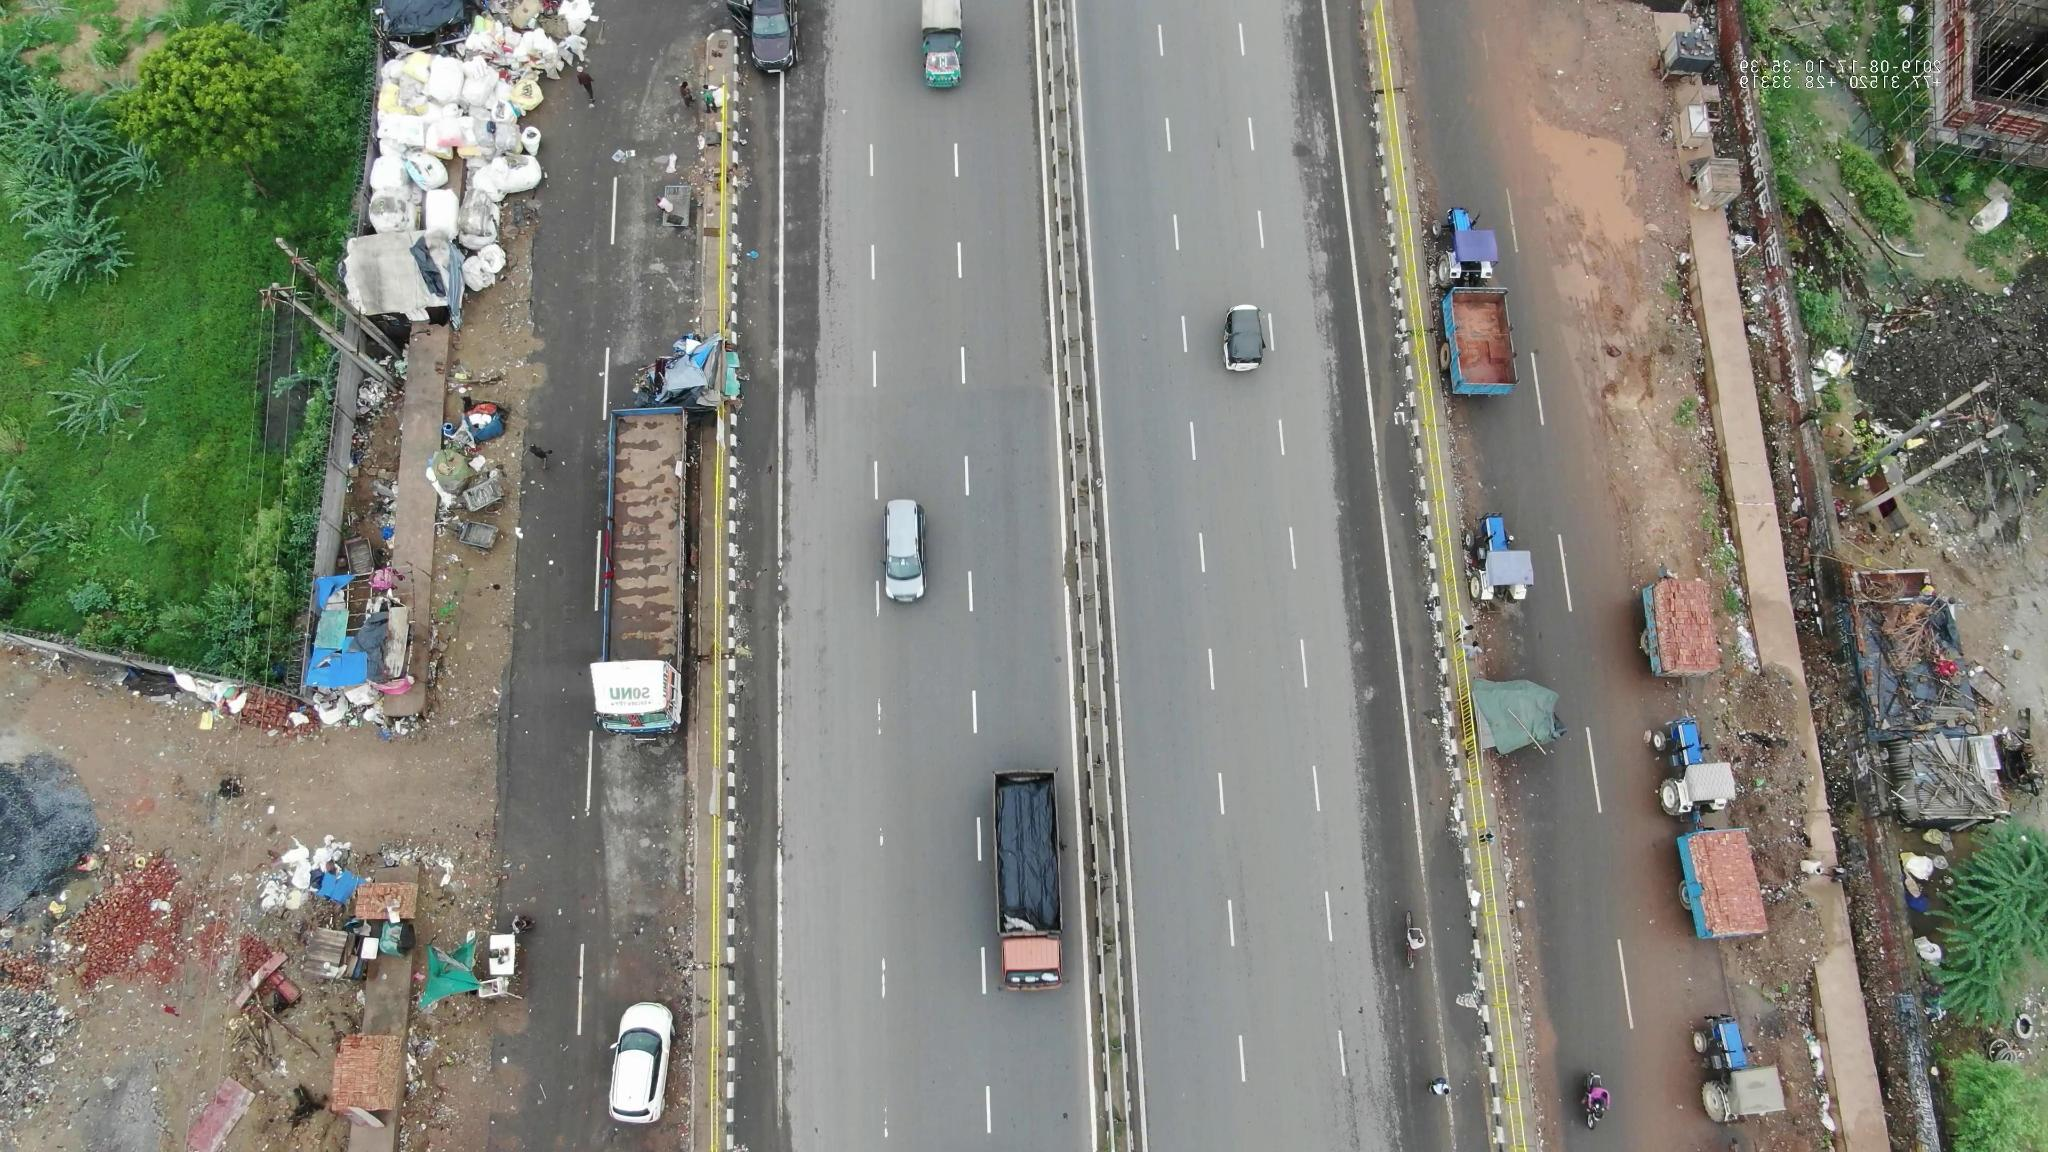Muddy_road: (1577, 257, 1703, 519)
Waterlogging: (1521, 96, 1682, 221)
